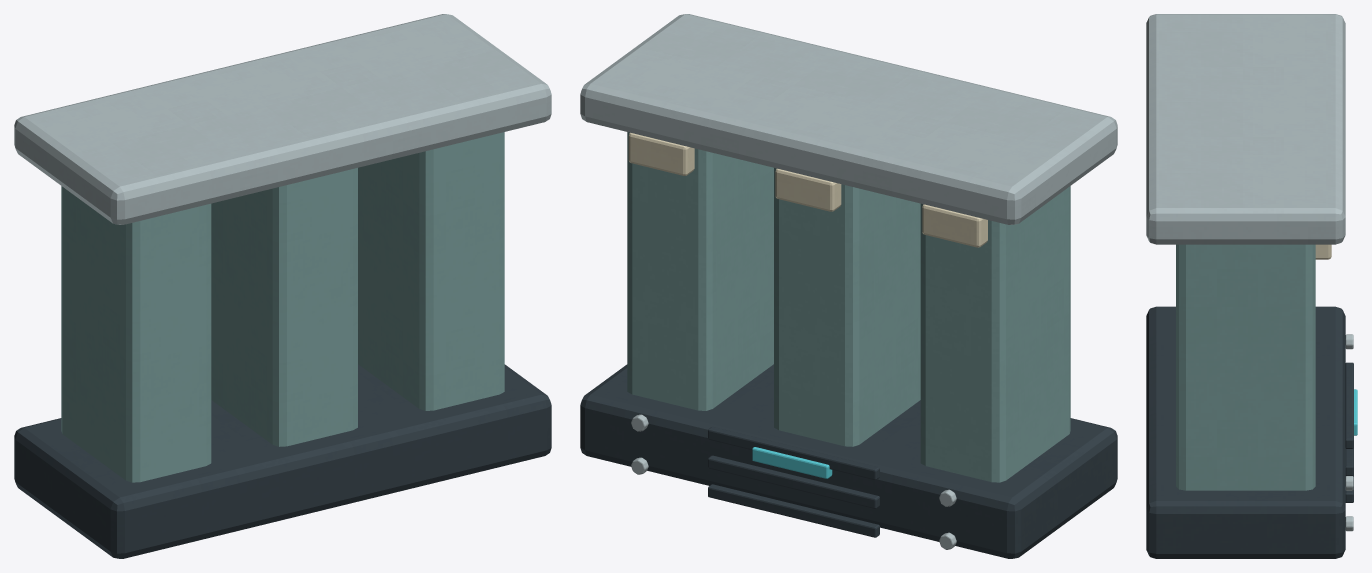
File: battery_rack.glb
3 renders of one model, left to right at view 1: azimuth 30°, elevation 25°; view 2: azimuth 150°, elevation 25°; view 3: azimuth 270°, elevation 25°, orthographic. The views are drawn at different scales.
Visible parts, largest first — view 1: Root; view 2: Root; view 3: Root.
Boxes of the visible parts, x1,y1,x2,y2 form: Root: (14,14,551,558); Root: (580,14,1117,558); Root: (1146,14,1357,558).
Bounding box in the file's own units: 1.2 × 0.979 × 0.5305.
1 material, 1 textured.
